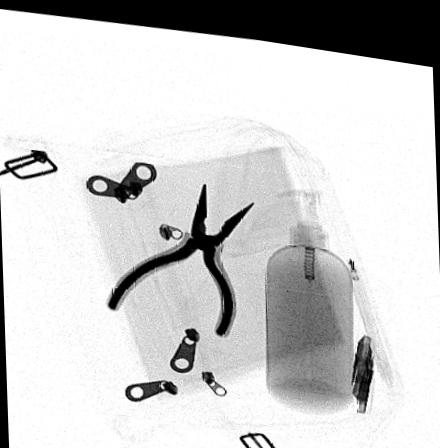Pliers: (105, 174, 255, 330)
